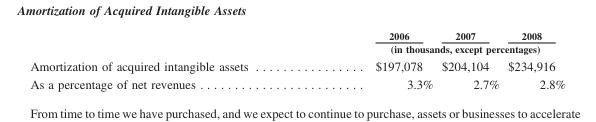table: (29, 29, 565, 90)
table column: (29, 29, 311, 90), (311, 29, 436, 90), (436, 29, 503, 90), (503, 29, 565, 90)
table column header: (29, 29, 565, 56)
table row: (29, 56, 565, 74), (29, 74, 565, 90), (29, 41, 565, 56), (29, 29, 565, 41)
table spanning cell: (311, 41, 565, 56)
